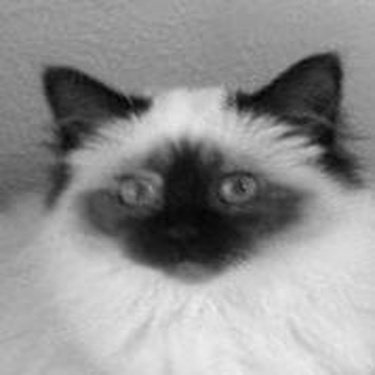cat: (14, 46, 370, 369)
